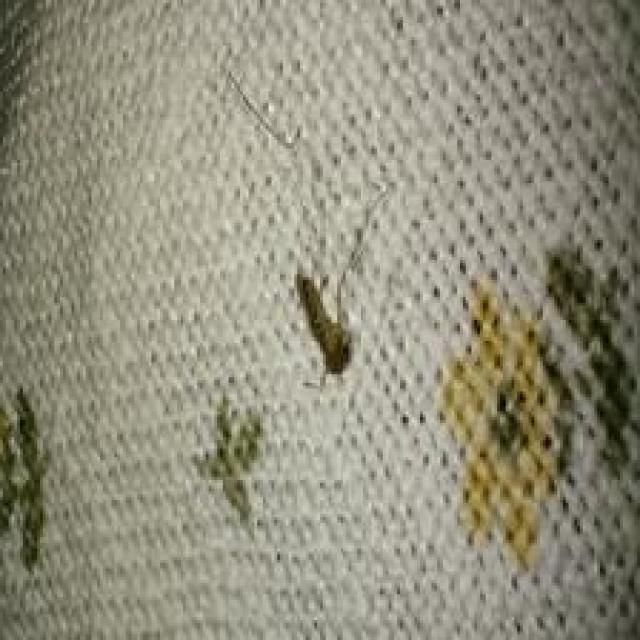Culex: (434, 272, 574, 574)
